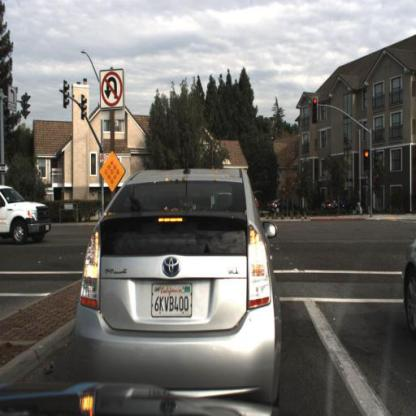car: (73, 161, 282, 408), (1, 183, 55, 248), (401, 229, 416, 340), (319, 194, 354, 219), (268, 192, 295, 219)
pedestrian: (352, 185, 367, 220)
trafficLight-Red: (362, 146, 374, 174), (312, 95, 321, 126)
